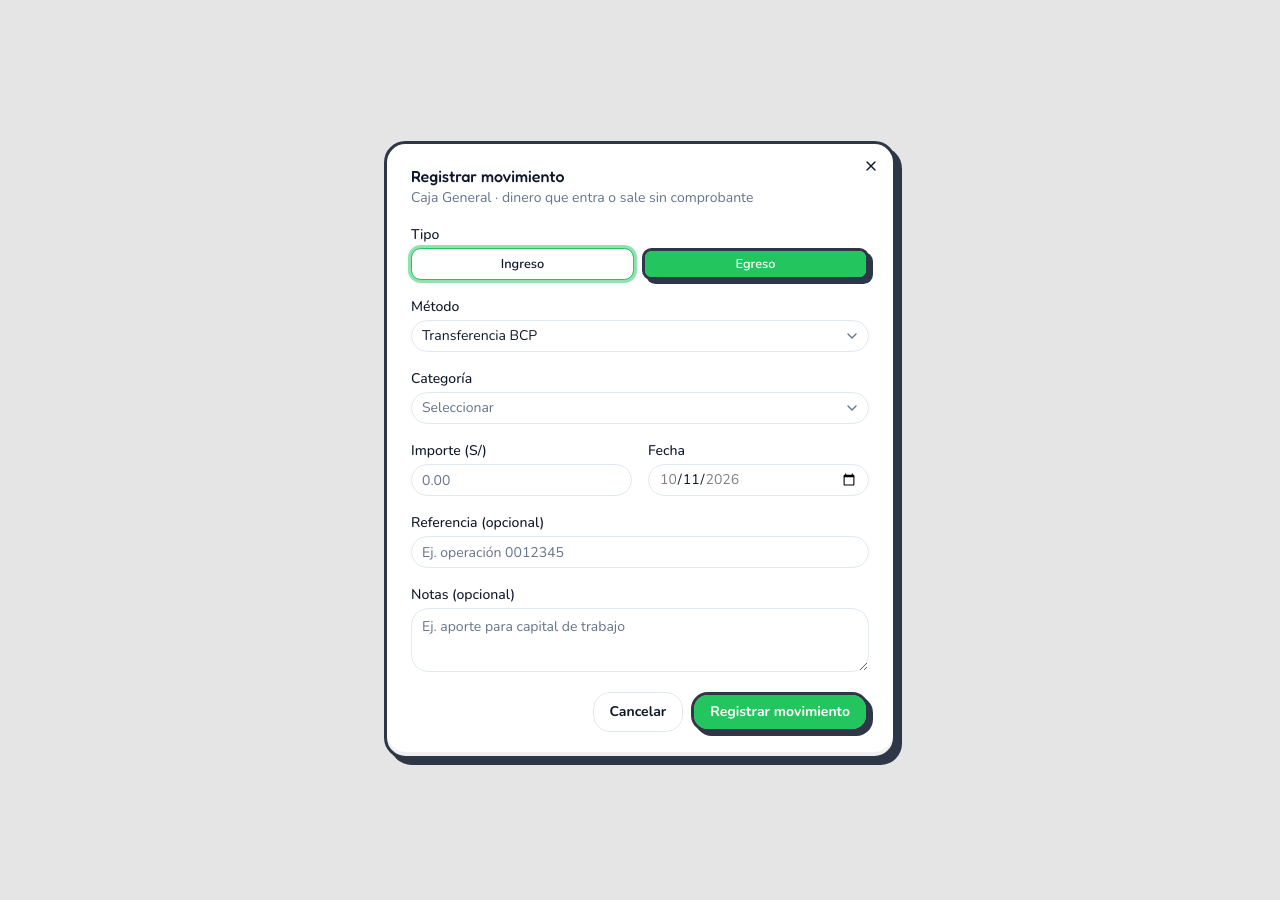
Test: CashMovementModal › en un banco ofrece los métodos que no son Efectivo
The width and height of the screenshot is (1280, 900).
Click the dropdown named "Método" at [480, 336], box [411,320,869,352]
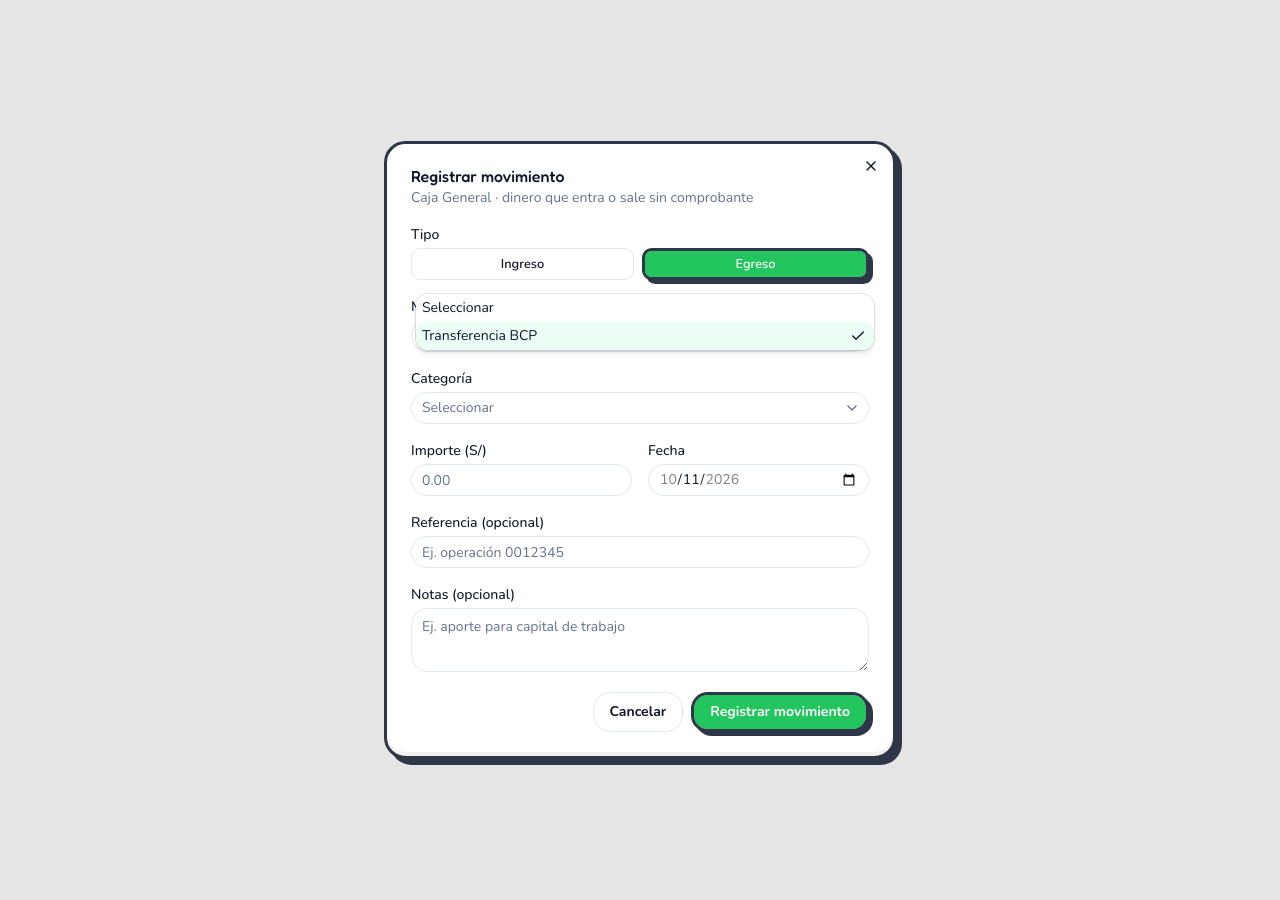
Now the option "Transferencia BCP" is shown, box [416,322,874,350]
